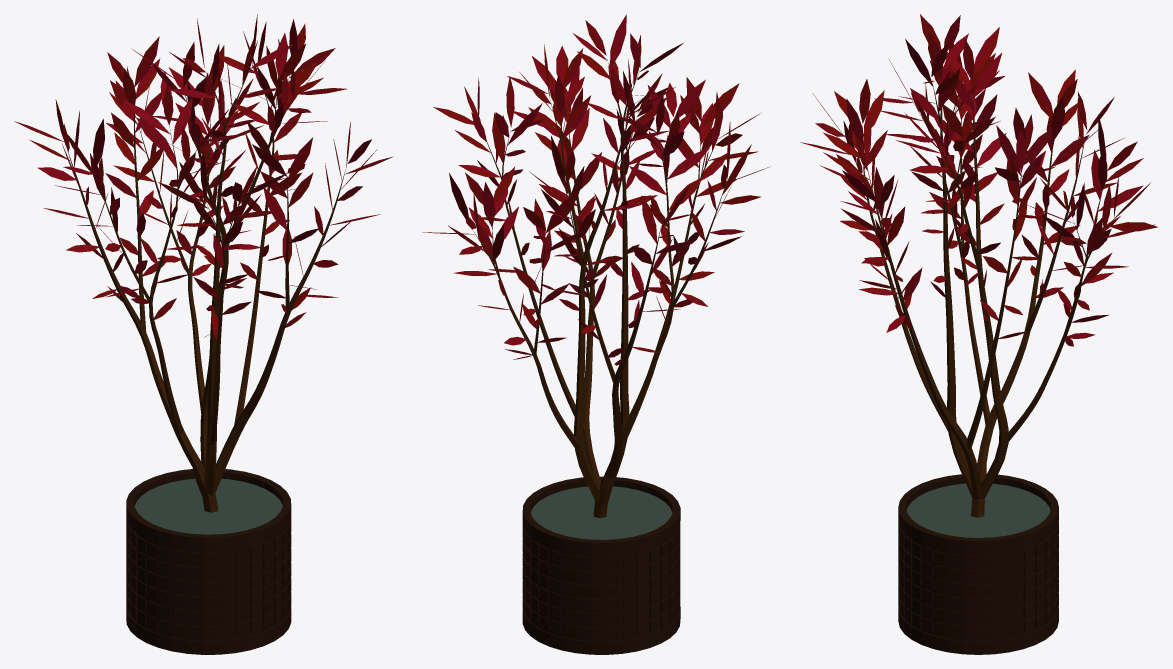
The model's file is redTree.fbx.
The picture shows the model from 3 angles, left to right: view 1: azimuth 30°, elevation 25°; view 2: azimuth 150°, elevation 25°; view 3: azimuth 270°, elevation 25°; orthographic projection. The views are drawn at different scales.
Visible parts, largest first — view 1: redTree; view 2: redTree; view 3: redTree.
Boxes of the visible parts, x1,y1,x2,y2 form: redTree: [14, 14, 393, 654]; redTree: [422, 14, 770, 654]; redTree: [800, 14, 1157, 654].
Bounding box in the file's own units: 75.76 × 149 × 81.45.
